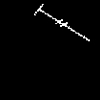treble_crochet: (34, 4, 89, 40)
